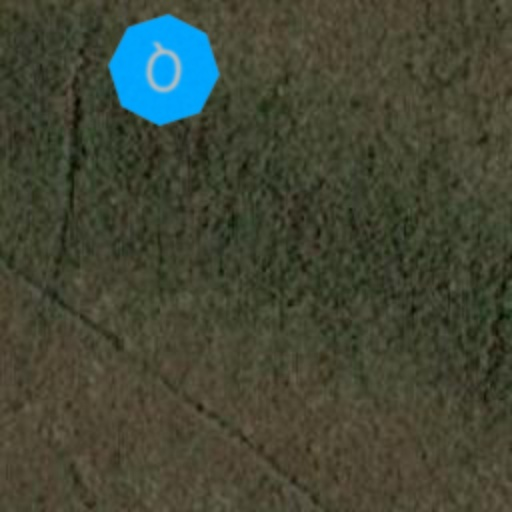octagon: (102, 8, 226, 132)
